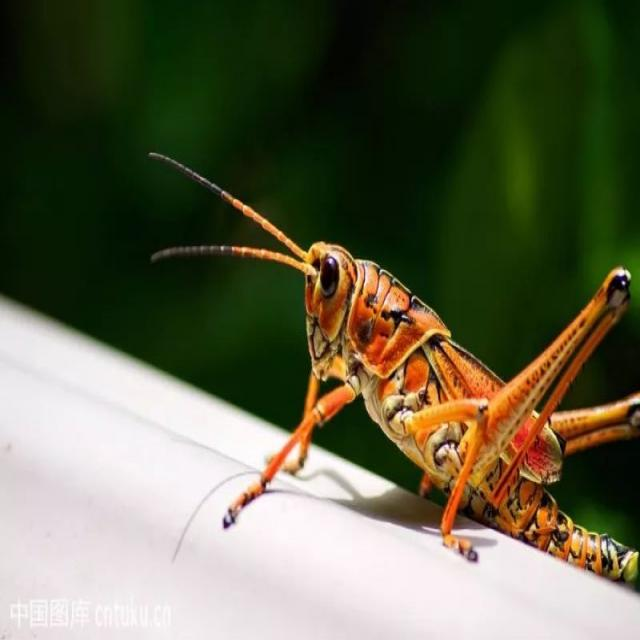ZhaMeng: (128, 127, 632, 600)
